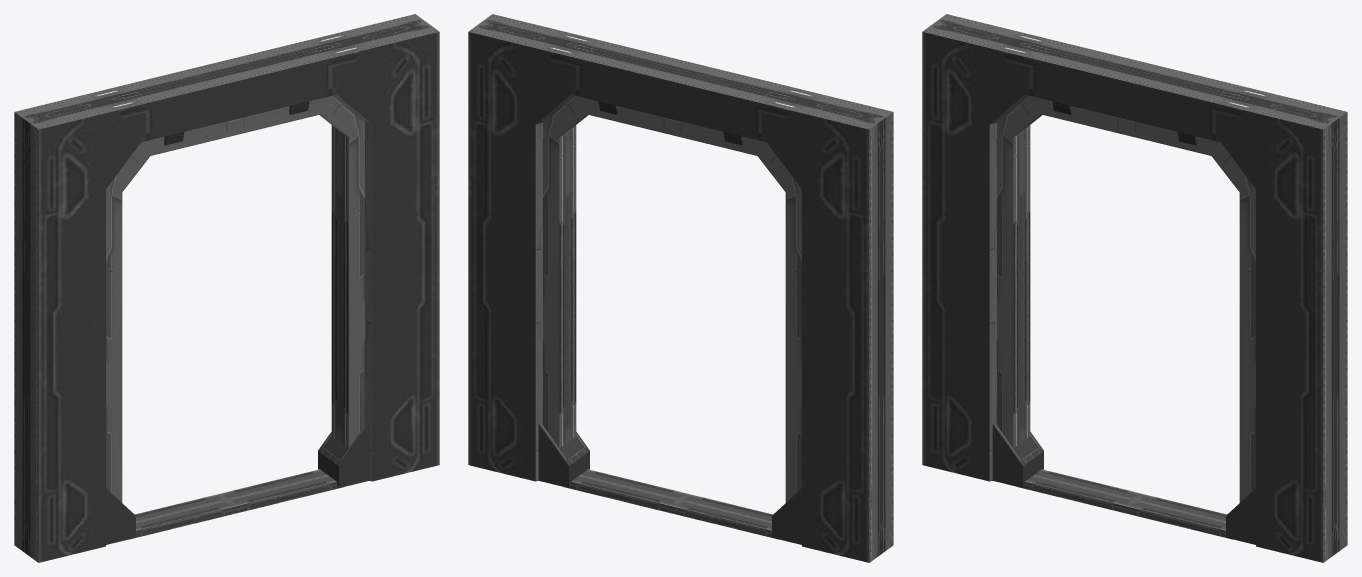
The model's file is sf_doorway_tall.glb.
3 renders of one model, left to right at view 1: azimuth 30°, elevation 25°; view 2: azimuth 150°, elevation 25°; view 3: azimuth 330°, elevation 25°, orthographic.
Visible parts, largest first — view 1: Door_Frame_SquareTall; view 2: Door_Frame_SquareTall; view 3: Door_Frame_SquareTall.
Boxes of the visible parts, left/top/right/bottom form: Door_Frame_SquareTall: left=14, top=14, right=439, bottom=562; Door_Frame_SquareTall: left=468, top=14, right=893, bottom=562; Door_Frame_SquareTall: left=922, top=14, right=1347, bottom=562.
Bounding box in the file's own units: 4.84 × 5.01 × 0.5068.
Materials: 1 (1 with a texture image).
